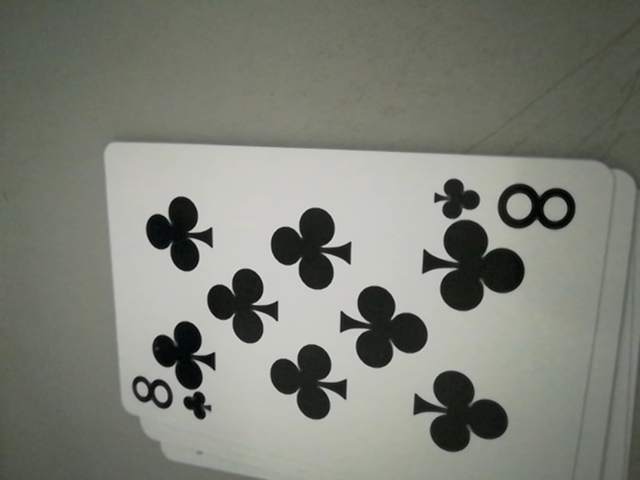mh 8: (429, 172, 578, 232), (128, 378, 213, 425)
